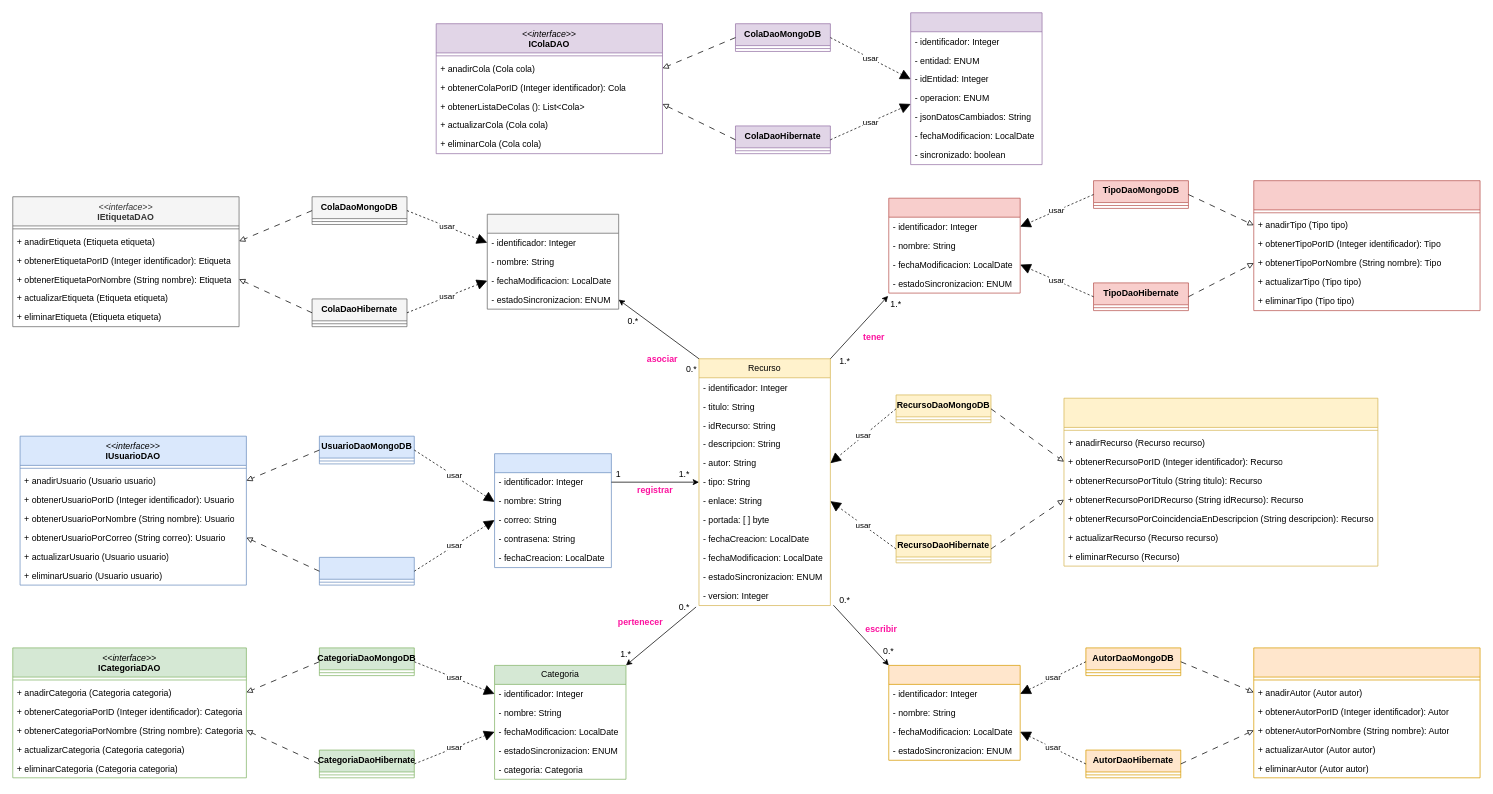
Image size: 1493x794. Some labels were removed from this diagram. The shapes that lost their labels are listed below. From the top down, each one's box as (x1, y1, x2, y2) in pixels, then its label:
(910, 12, 1042, 165): Cola
(487, 214, 619, 309): Etiqueta
(888, 197, 1020, 293): Tipo
(1253, 180, 1480, 311): <<interface>> ITipoDAO
(1063, 397, 1378, 566): <<interface>> IRecursoDAO
(494, 453, 611, 568): Usuario
(319, 557, 414, 585): UsuarioDaoHibernate
(888, 665, 1020, 760): Autor
(1253, 647, 1480, 778): <<interface>> IAutorDAO
